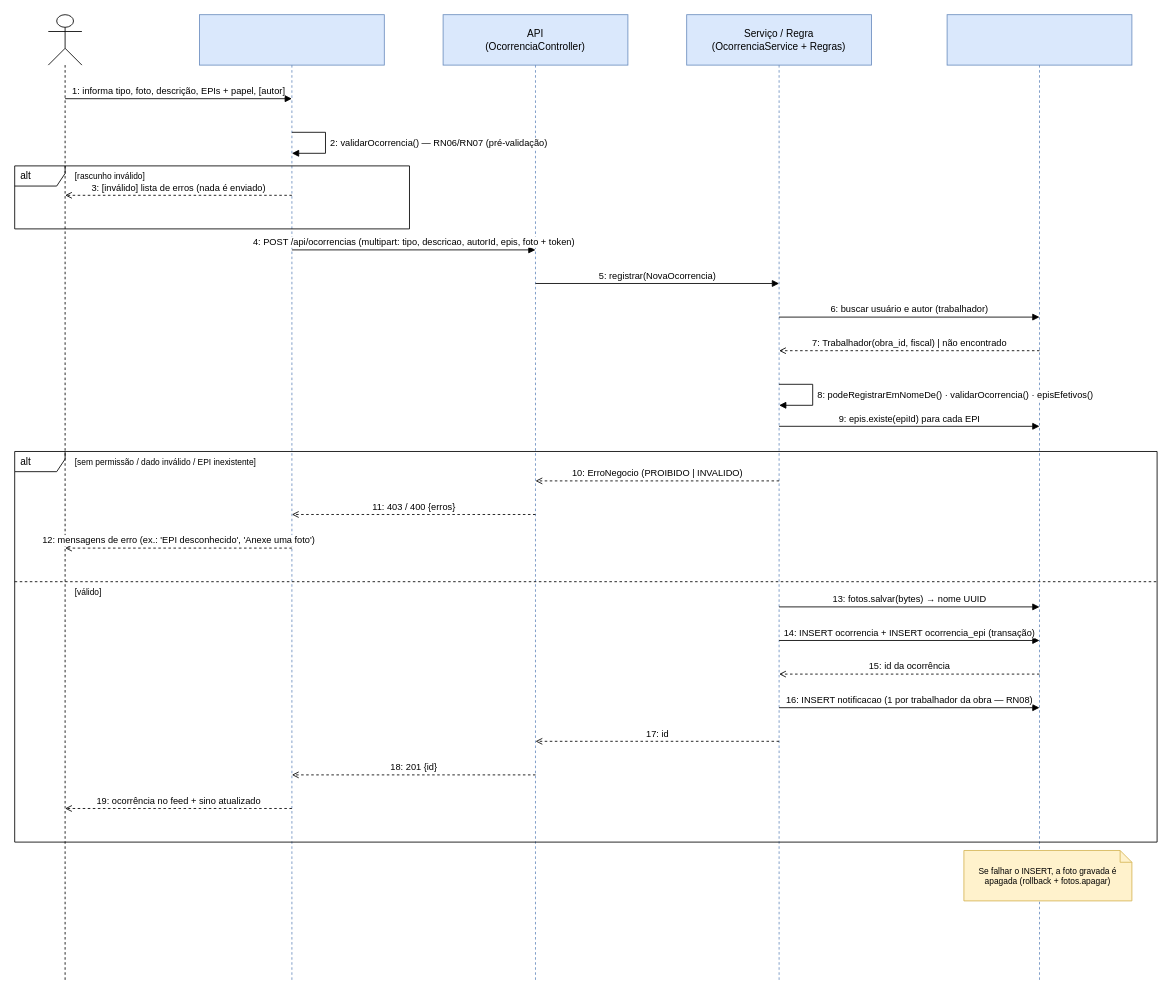
This 1173x995 diagram has some shape labels left out. The box of each missing label's shape, as (x1, y1, x2, y2) in pixels:
Interface (RegistrarOcorrencia.jsx): (199, 14, 384, 981)
Persistência (Repositórios + MySQL + fotos): (946, 14, 1132, 981)
Trabalhador / Fiscal: (47, 14, 82, 981)
